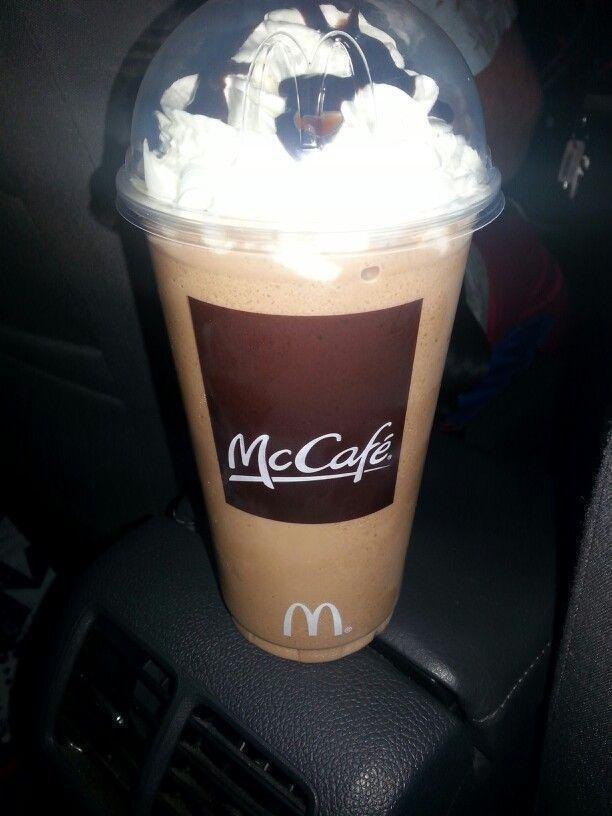cup-disposable: (112, 2, 507, 669)
